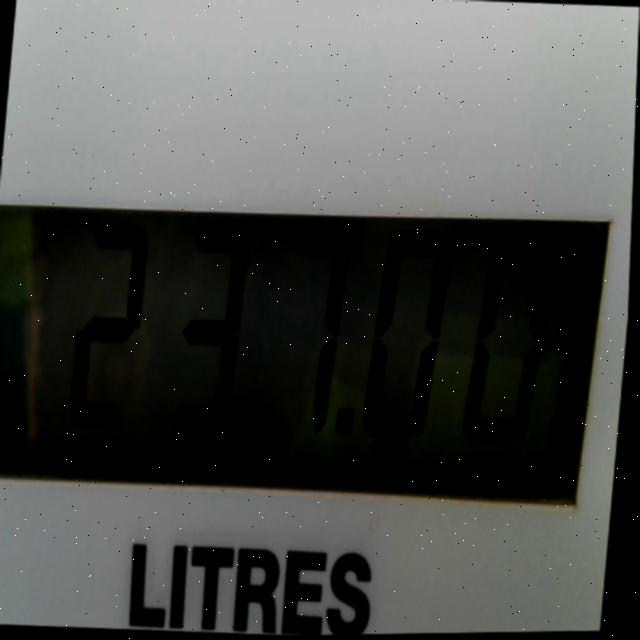.: (327, 390, 358, 453)
0: (454, 218, 574, 465), (360, 223, 468, 454)
2: (62, 213, 159, 437)
3: (161, 213, 265, 437)
7: (264, 216, 357, 440)
